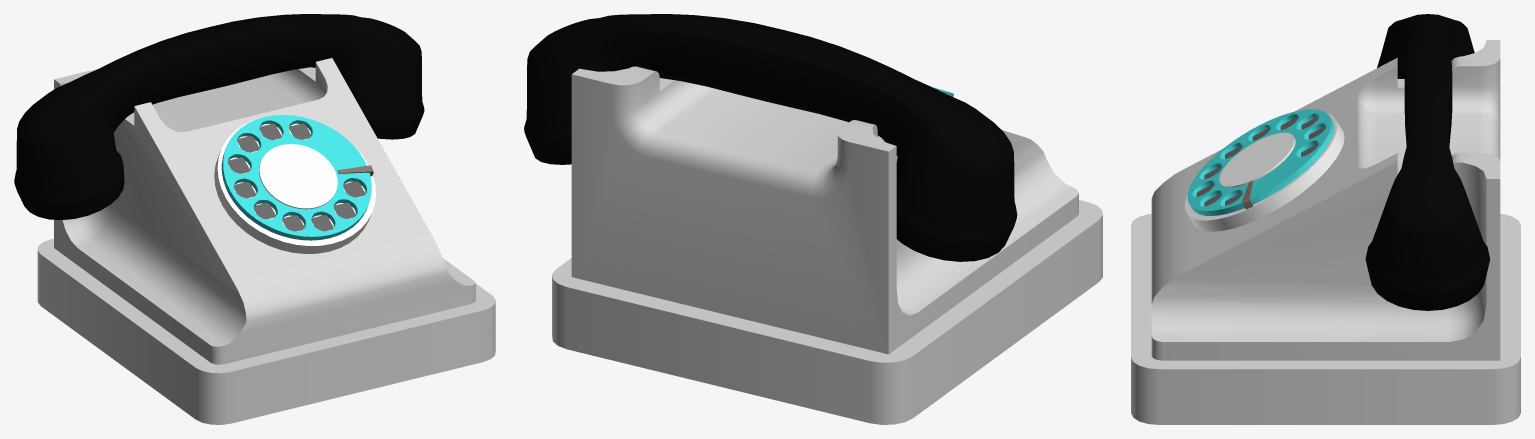
The model's file is phone.fbx.
The picture shows the model from 3 angles, left to right: view 1: azimuth 30°, elevation 25°; view 2: azimuth 150°, elevation 25°; view 3: azimuth 270°, elevation 25°; orthographic projection. The views are drawn at different scales.
Visible parts, largest first — view 1: phone_base, transparent_glass, numbers; view 2: phone_base; view 3: phone_base, transparent_glass, numbers.
Part boxes in pixels (x1,y1,x2,y2): phone_base: [14, 14, 495, 424]; transparent_glass: [221, 115, 371, 240]; numbers: [228, 123, 365, 231]; phone_base: [524, 14, 1102, 424]; phone_base: [1131, 14, 1520, 424]; transparent_glass: [1187, 109, 1334, 215]; numbers: [1196, 116, 1326, 206].
Size of the model in its own units: 0.3318 by 0.2107 by 0.2639.
